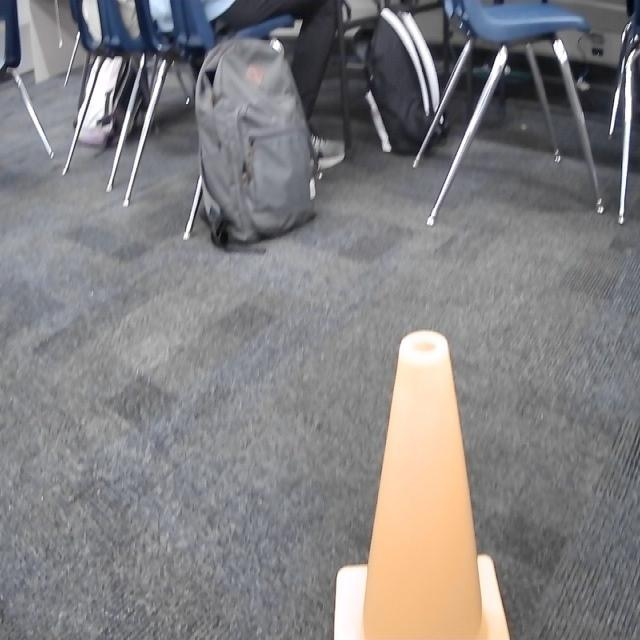cone: (332, 326, 512, 640)
